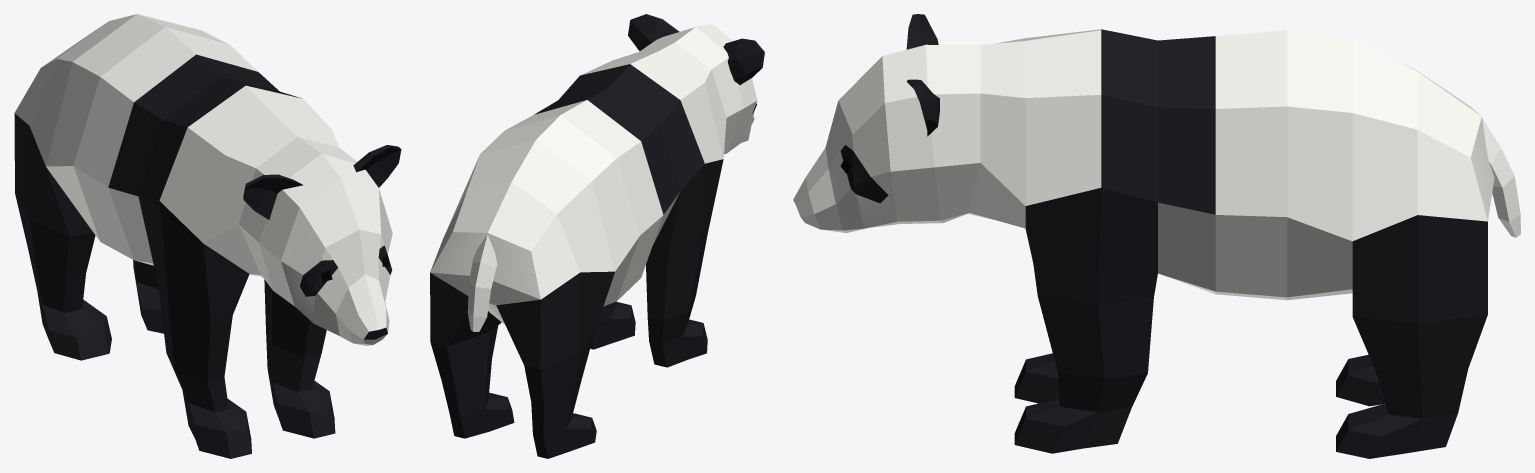
File: Panda.glb
3 renders of one model, left to right at view 1: azimuth 30°, elevation 25°; view 2: azimuth 150°, elevation 25°; view 3: azimuth 270°, elevation 25°, orthographic. The views are drawn at different scales.
Parts seen in each view (by area): view 1: Geo_Panda; view 2: Geo_Panda; view 3: Geo_Panda.
Part boxes in pixels (box(x1,y1,x2,y2)): Geo_Panda: box(14, 14, 401, 458); Geo_Panda: box(430, 14, 764, 458); Geo_Panda: box(793, 14, 1520, 458).
Size of the model in its own units: 87.28 by 151 by 259.
1 material, 1 textured.
